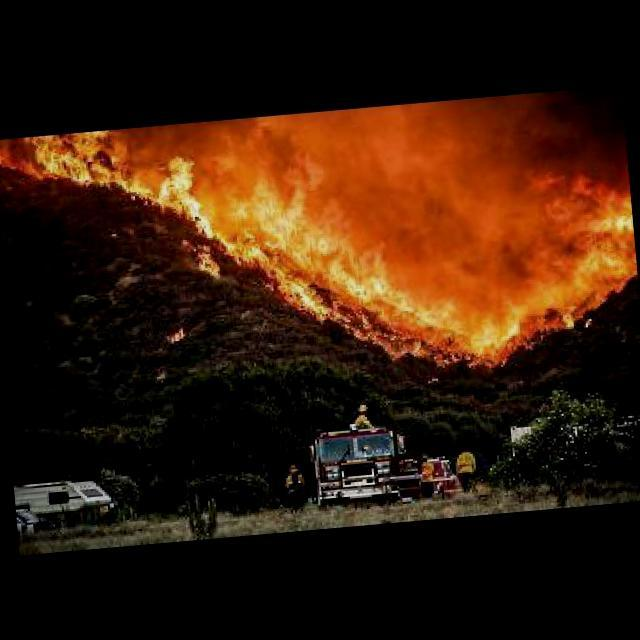Fire: (311, 291, 526, 377), (225, 229, 403, 316), (540, 167, 636, 292), (191, 181, 311, 245), (137, 145, 214, 217), (194, 247, 220, 277), (170, 322, 186, 341)
